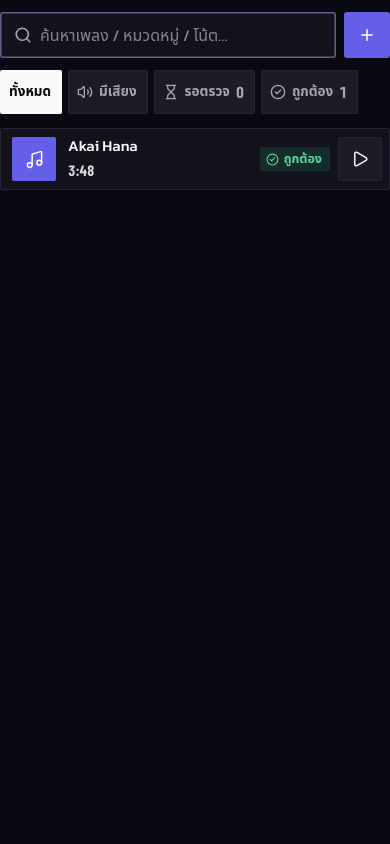
Scenario: SongLibrary — Black Stage layout › tapping a phone row opens its sheet: notes, rights, audio — and edit + delete for an editor
Click the button "Akai Hana 3:48". click: (132, 159)
box: [12,137,252,181]
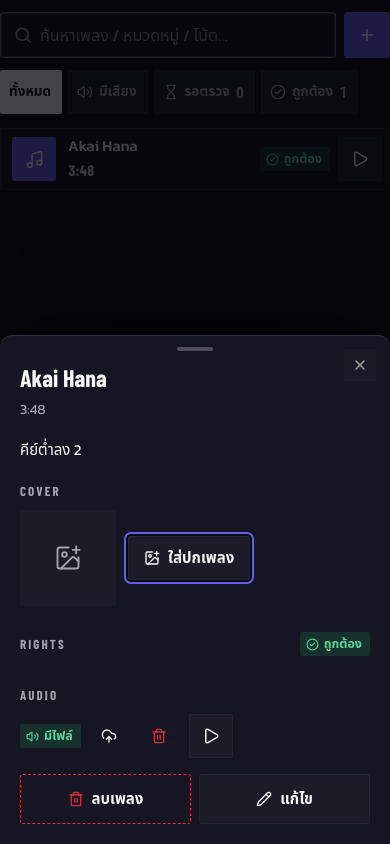
Check: the heading "Akai Hana" is shown, box [20,363,107,392]
Check: the text "คีย์ต่ำลง 2" is shown, box [20,438,82,461]
Check: the text "มีไฟล์" is shown, box [20,724,81,748]
